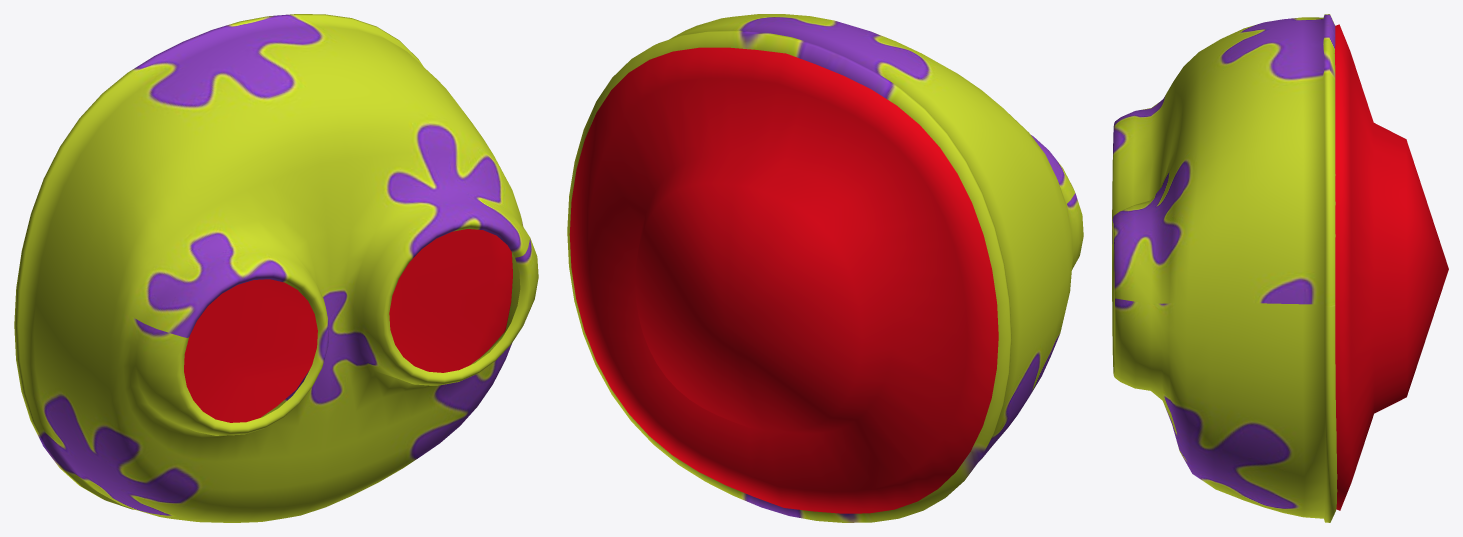
The picture shows the model from 3 angles, left to right: view 1: azimuth 30°, elevation 25°; view 2: azimuth 150°, elevation 25°; view 3: azimuth 270°, elevation 25°; orthographic projection. The views are drawn at different scales.
Visible parts, largest first — view 1: Cube.004; view 2: Cube.004; view 3: Cube.004.
Part boxes in pixels (bbox=[...]): Cube.004: bbox=[14, 14, 538, 522]; Cube.004: bbox=[567, 14, 1083, 522]; Cube.004: bbox=[1112, 14, 1448, 522].
Bounding box in the file's own units: 23.92 × 24.61 × 16.58.
2 materials, 1 textured.
